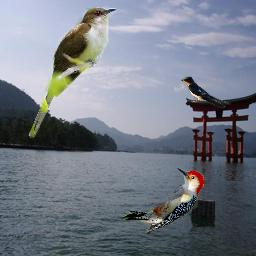Cuckoo: (28, 6, 117, 138)
Swallow: (180, 75, 231, 108)
Woodpecker: (121, 168, 204, 235)
